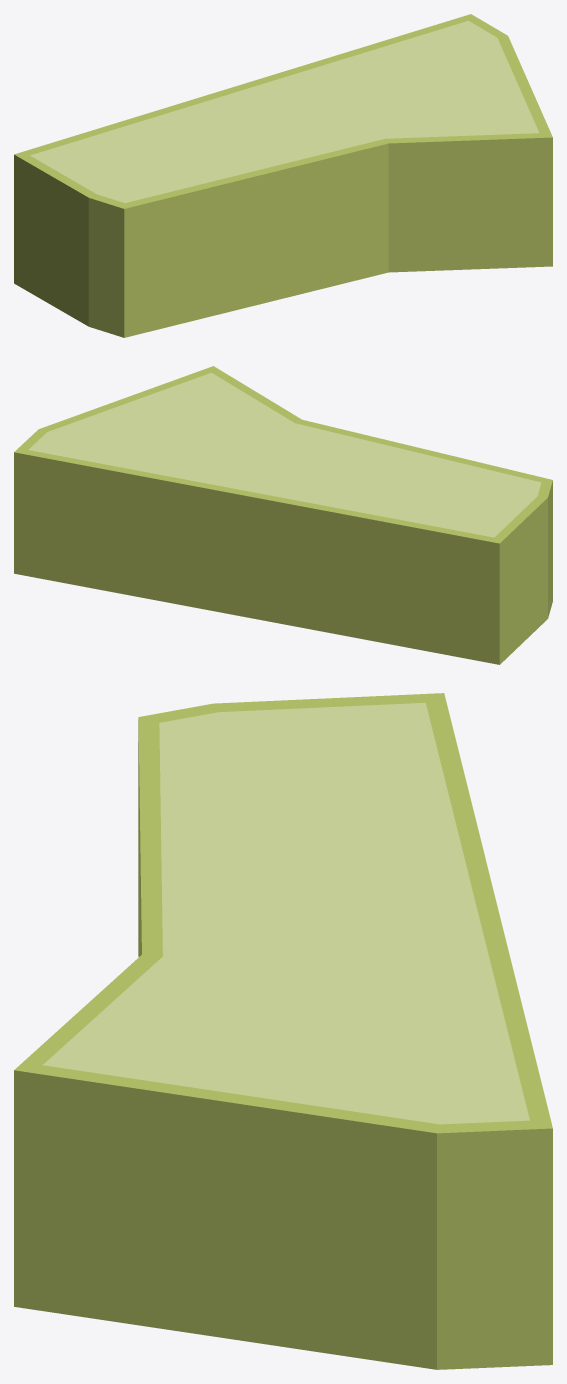
The model's file is Islands1.004.fbx.
The picture shows the model from 3 angles, top to bottom: view 1: azimuth 30°, elevation 25°; view 2: azimuth 150°, elevation 25°; view 3: azimuth 270°, elevation 25°; orthographic projection. The views are drawn at different scales.
Parts seen in each view (by area): view 1: Island1.004; view 2: Island1.004; view 3: Island1.004.
Part boxes in pixels (box(x1,y1,x2,y2)): Island1.004: box(14, 14, 552, 337); Island1.004: box(14, 366, 552, 664); Island1.004: box(14, 693, 552, 1369).
Size of the model in its own units: 99.81 by 25 by 51.63.
